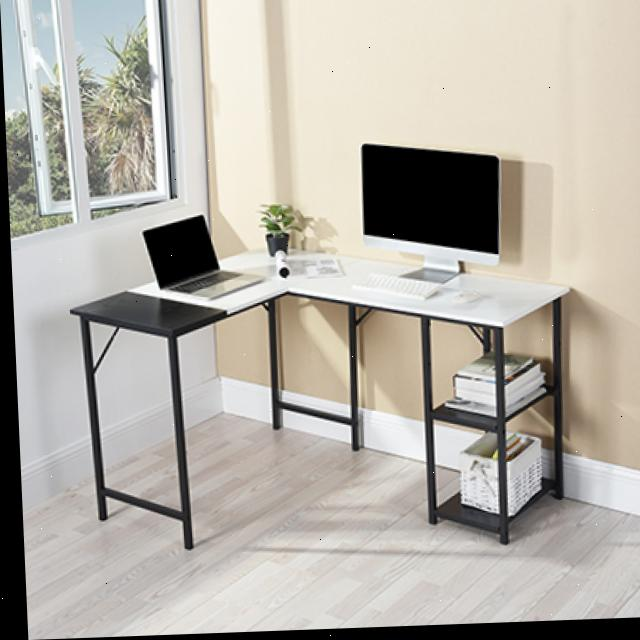computer: (360, 142, 503, 324), (139, 214, 262, 308)
table: (63, 242, 576, 563)
